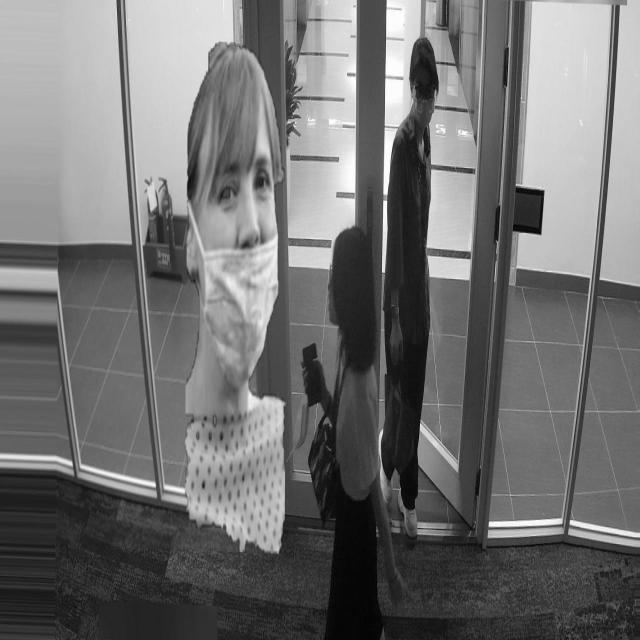hairnet: (206, 142, 276, 384)
